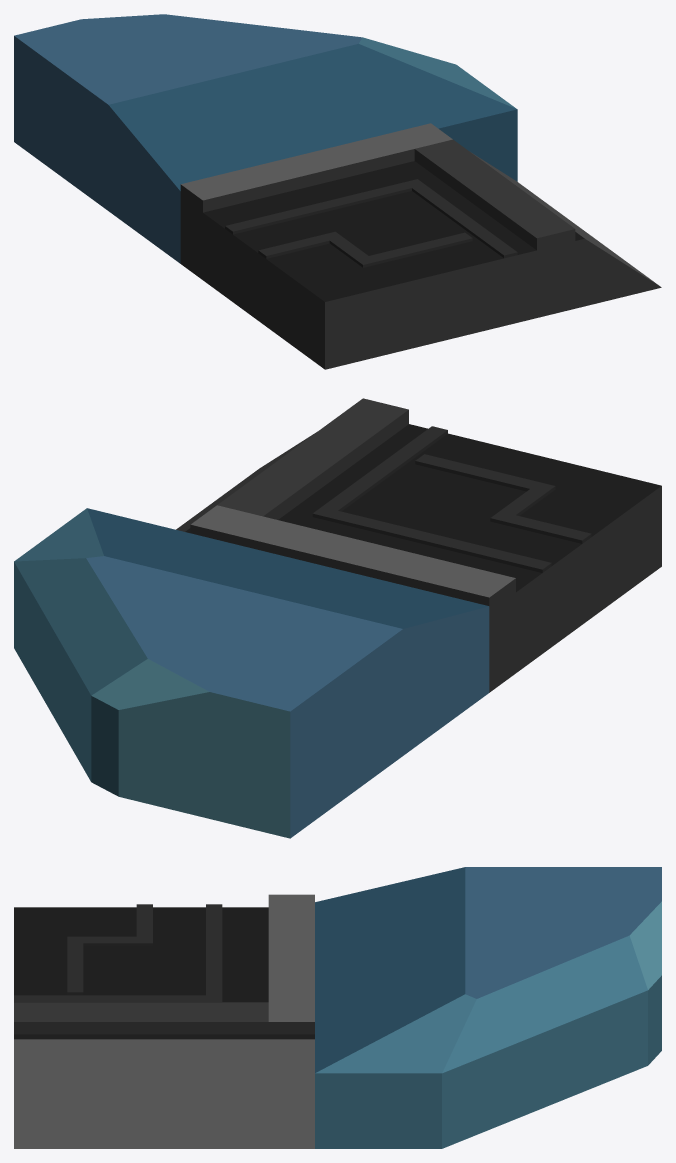
The model's file is newsho-53.glb.
3 renders of one model, top to bottom at view 1: azimuth 30°, elevation 25°; view 2: azimuth 150°, elevation 25°; view 3: azimuth 270°, elevation 25°, orthographic. The views are drawn at different scales.
Parts seen in each view (by area): view 1: newsho-53; view 2: newsho-53; view 3: newsho-53.
Boxes of the visible parts, x1,y1,x2,y2 form: newsho-53: (14, 14, 661, 369); newsho-53: (14, 398, 661, 838); newsho-53: (14, 867, 661, 1148).
Size of the model in its own units: 1.46 by 0.44 by 2.33.
